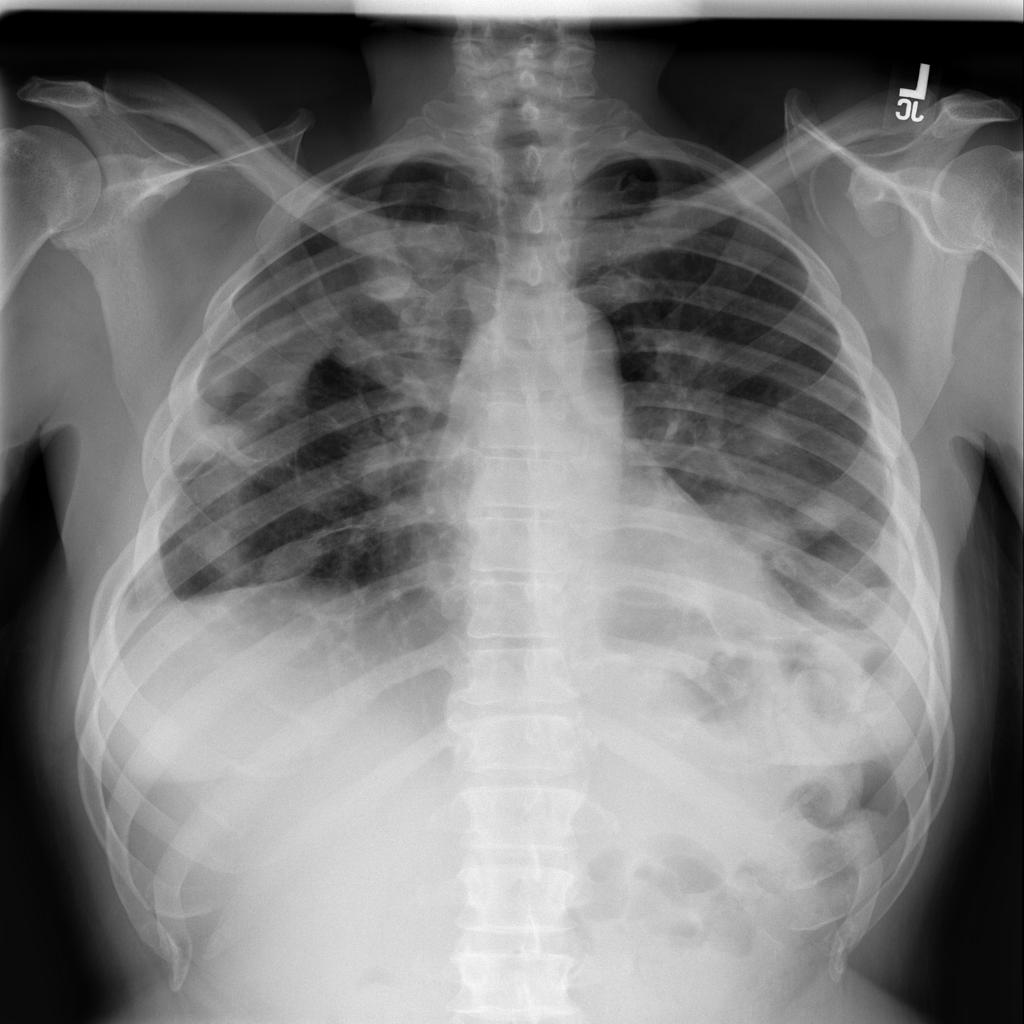nodule: (618, 485, 808, 631), (178, 520, 268, 588), (730, 404, 810, 472), (790, 495, 845, 546)
